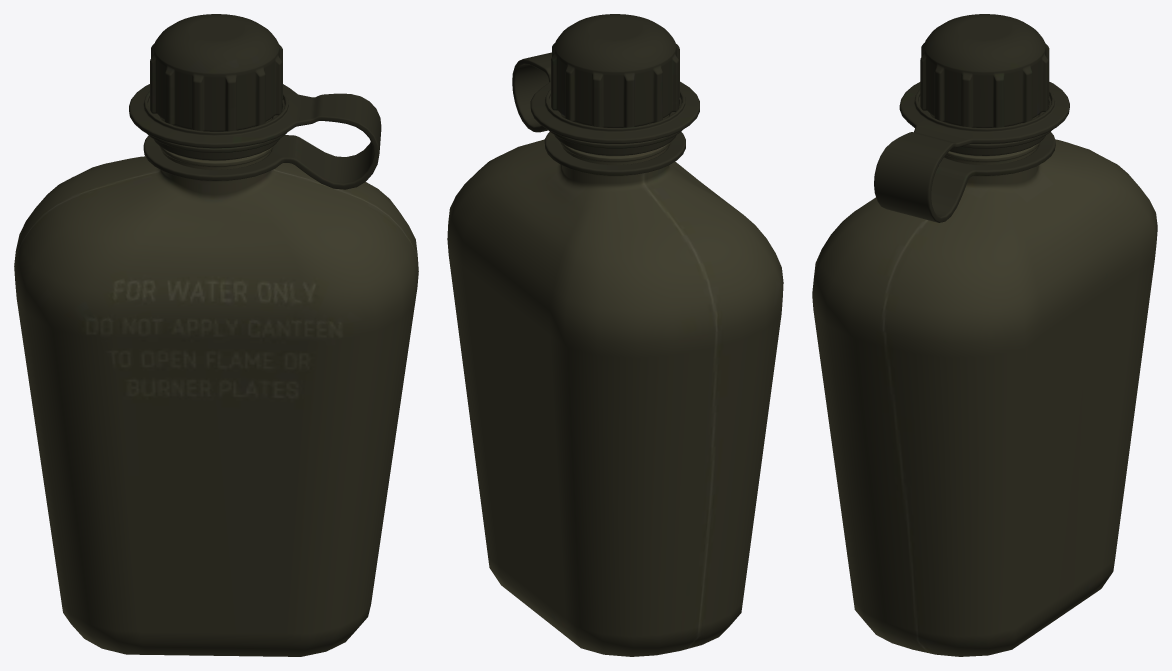
Rendered from flask.glb.
3 renders of one model, left to right at view 1: azimuth 30°, elevation 25°; view 2: azimuth 150°, elevation 25°; view 3: azimuth 270°, elevation 25°, orthographic. The views are drawn at different scales.
Visible parts, largest first — view 1: flask; view 2: flask; view 3: flask.
Part boxes in pixels (left/top/right/bottom): flask: left=14, top=14, right=418, bottom=656; flask: left=447, top=14, right=783, bottom=656; flask: left=812, top=14, right=1157, bottom=656.
Bounding box in the file's own units: 0.1354 × 0.22 × 0.1207.
1 material, 1 textured.
